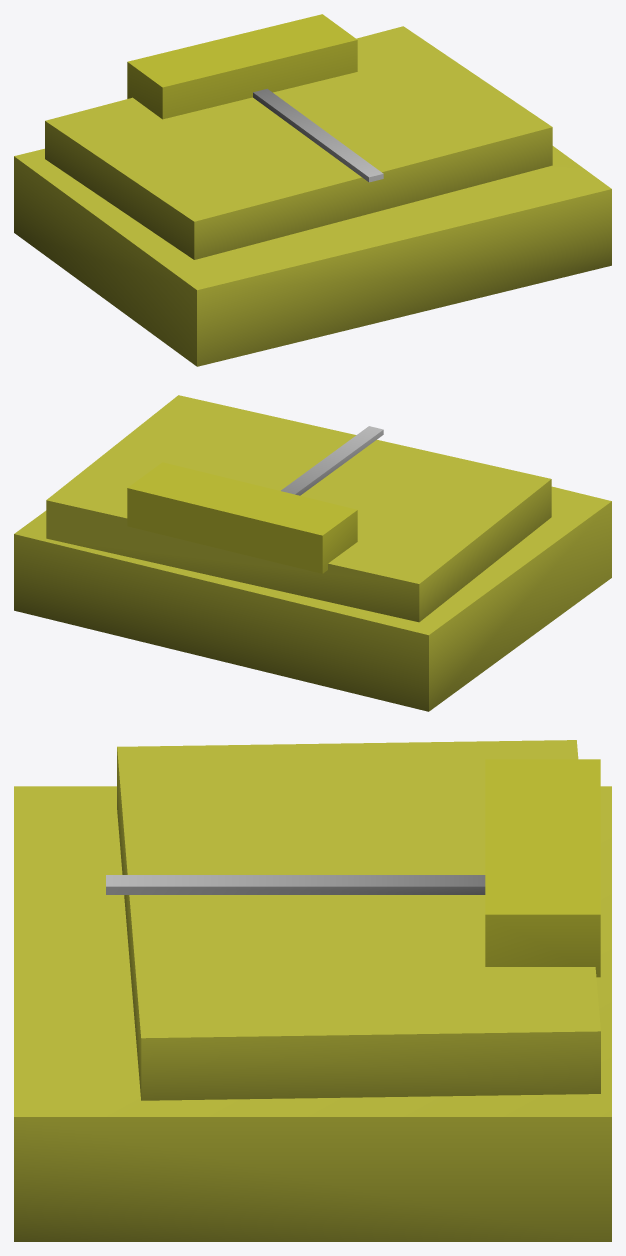
The model's file is impermeable.glb.
3 renders of one model, top to bottom at view 1: azimuth 30°, elevation 25°; view 2: azimuth 150°, elevation 25°; view 3: azimuth 270°, elevation 25°, orthographic. The views are drawn at different scales.
Visible parts, largest first — view 1: impermeable; view 2: impermeable; view 3: impermeable.
Boxes of the visible parts, x1=… form: impermeable: x1=14, y1=14, x2=611, y2=366; impermeable: x1=14, y1=395, x2=611, y2=711; impermeable: x1=14, y1=740, x2=611, y2=1241.
Bounding box in the file's own units: 0.34 × 0.115 × 0.26.
